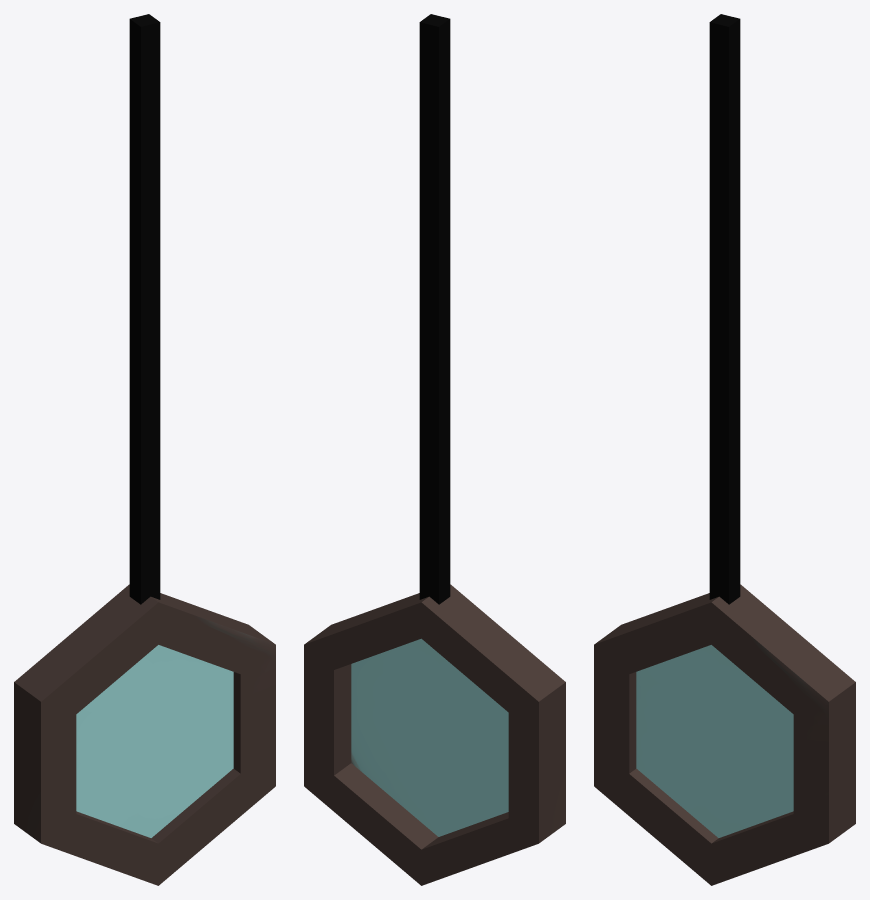
The model's file is MirrorModel.fbx.
The picture shows the model from 3 angles, left to right: view 1: azimuth 30°, elevation 25°; view 2: azimuth 150°, elevation 25°; view 3: azimuth 330°, elevation 25°; orthographic projection.
Parts seen in each view (by area): view 1: Cylinder, Cube; view 2: Cylinder, Cube; view 3: Cylinder, Cube.
Part boxes in pixels (left/top/right/bottom): Cylinder: left=14, top=584, right=275, bottom=885; Cube: left=129, top=14, right=160, bottom=604; Cylinder: left=304, top=584, right=565, bottom=885; Cube: left=419, top=14, right=450, bottom=604; Cylinder: left=594, top=584, right=855, bottom=885; Cube: left=709, top=14, right=740, bottom=604.
Bounding box in the file's own units: 34.64 × 121 × 6.91.
Materials: 2 (1 with a texture image).
